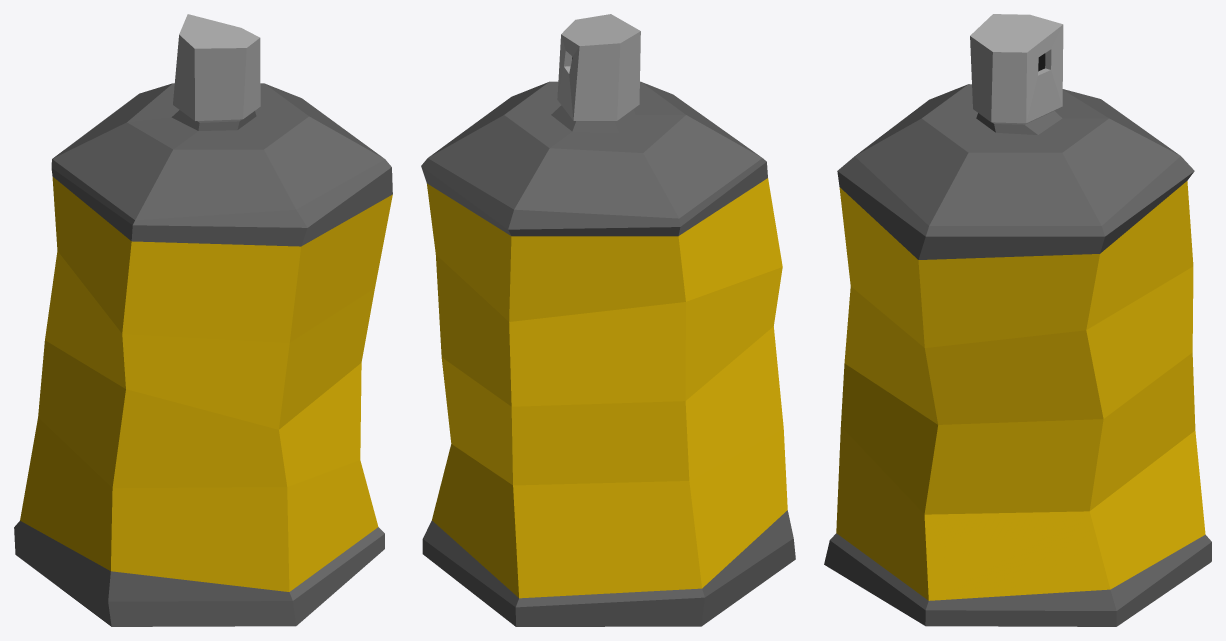
The model's file is YellowCan.fbx.
The picture shows the model from 3 angles, left to right: view 1: azimuth 30°, elevation 25°; view 2: azimuth 150°, elevation 25°; view 3: azimuth 270°, elevation 25°; orthographic projection. The views are drawn at different scales.
Parts seen in each view (by area): view 1: YellowCan; view 2: YellowCan; view 3: YellowCan.
Part boxes in pixels (box(x1,y1,x2,y2)): YellowCan: box(14, 14, 392, 626); YellowCan: box(421, 14, 795, 626); YellowCan: box(824, 14, 1211, 626).
Bounding box in the file's own units: 13.49 × 23.65 × 15.27.
